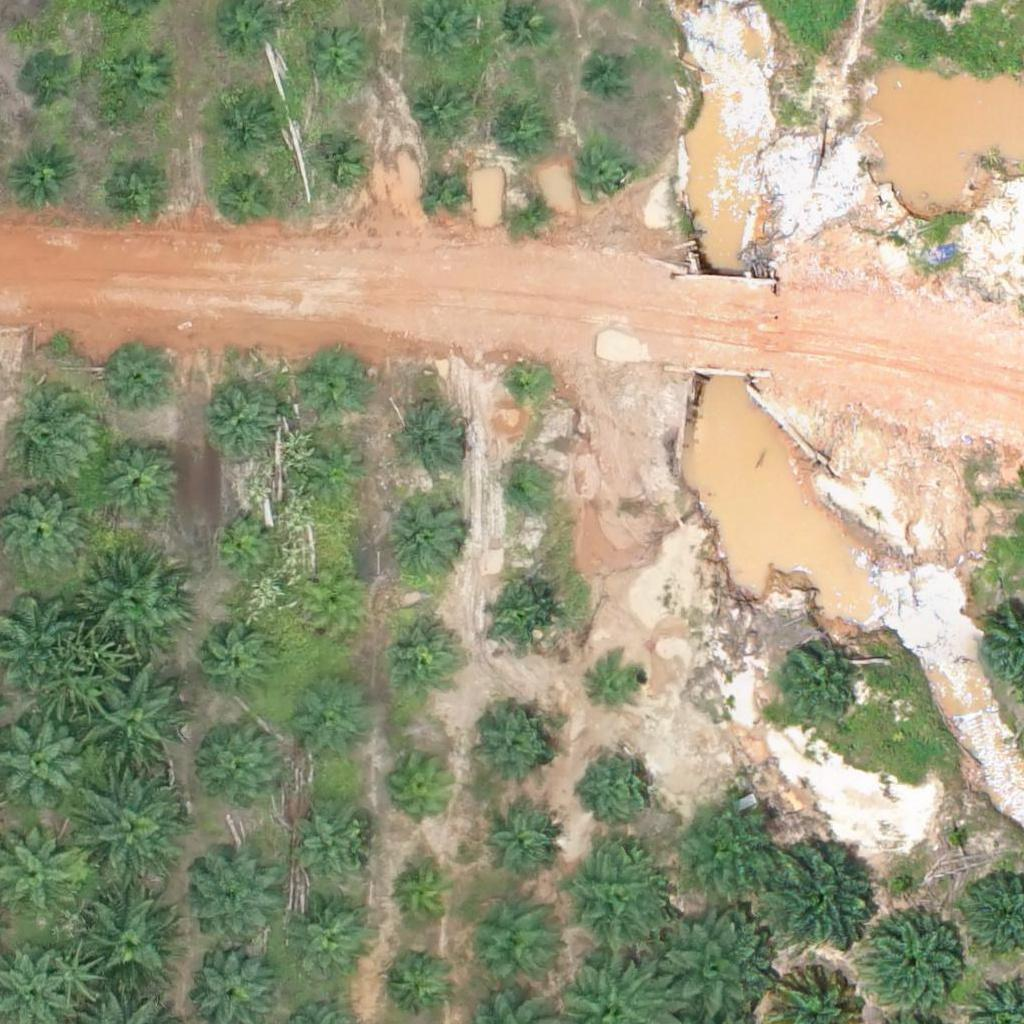Kelapa_Sawit: (756, 830, 881, 956), (78, 777, 191, 890), (670, 793, 782, 907), (859, 909, 971, 1023), (560, 845, 672, 958), (87, 676, 187, 777), (78, 888, 178, 989), (459, 901, 559, 1001), (81, 553, 181, 653), (3, 389, 103, 489), (473, 706, 561, 794), (285, 899, 373, 987), (191, 856, 279, 944), (197, 725, 284, 814), (1, 489, 88, 578), (477, 803, 564, 891), (775, 645, 862, 733), (284, 807, 371, 895), (200, 378, 287, 466), (95, 435, 182, 523), (390, 400, 465, 476), (100, 345, 175, 421), (481, 581, 556, 657), (379, 945, 454, 1021), (385, 857, 460, 933), (583, 744, 658, 820), (390, 497, 465, 573), (198, 624, 273, 699), (295, 688, 370, 763), (382, 615, 457, 690), (388, 748, 463, 823), (8, 147, 71, 210), (104, 45, 167, 108), (102, 152, 165, 215), (18, 52, 81, 115), (214, 169, 277, 232), (303, 350, 366, 413), (494, 96, 557, 159), (408, 81, 471, 144), (299, 572, 362, 635), (218, 91, 280, 154), (309, 446, 371, 509), (304, 33, 366, 96), (309, 131, 371, 194), (588, 653, 650, 716), (208, 512, 270, 574), (421, 166, 471, 217), (507, 187, 557, 238), (578, 153, 628, 203), (588, 48, 638, 98), (500, 361, 550, 411), (496, 468, 546, 518)
